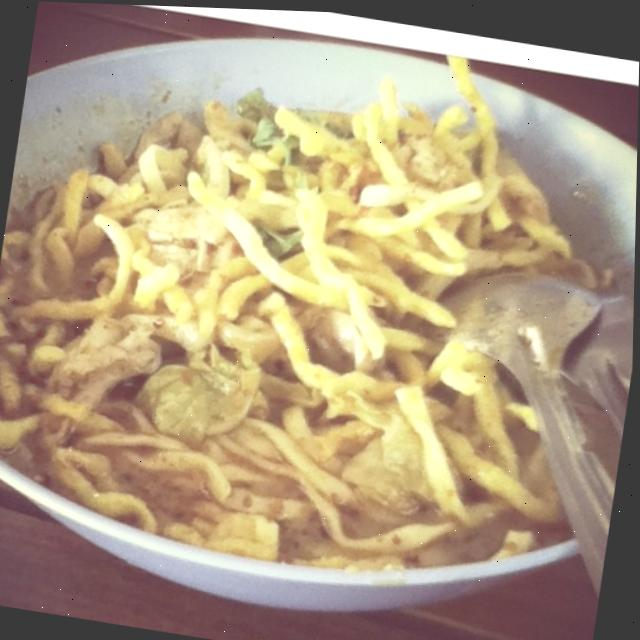面条主食: (0, 27, 640, 626)
